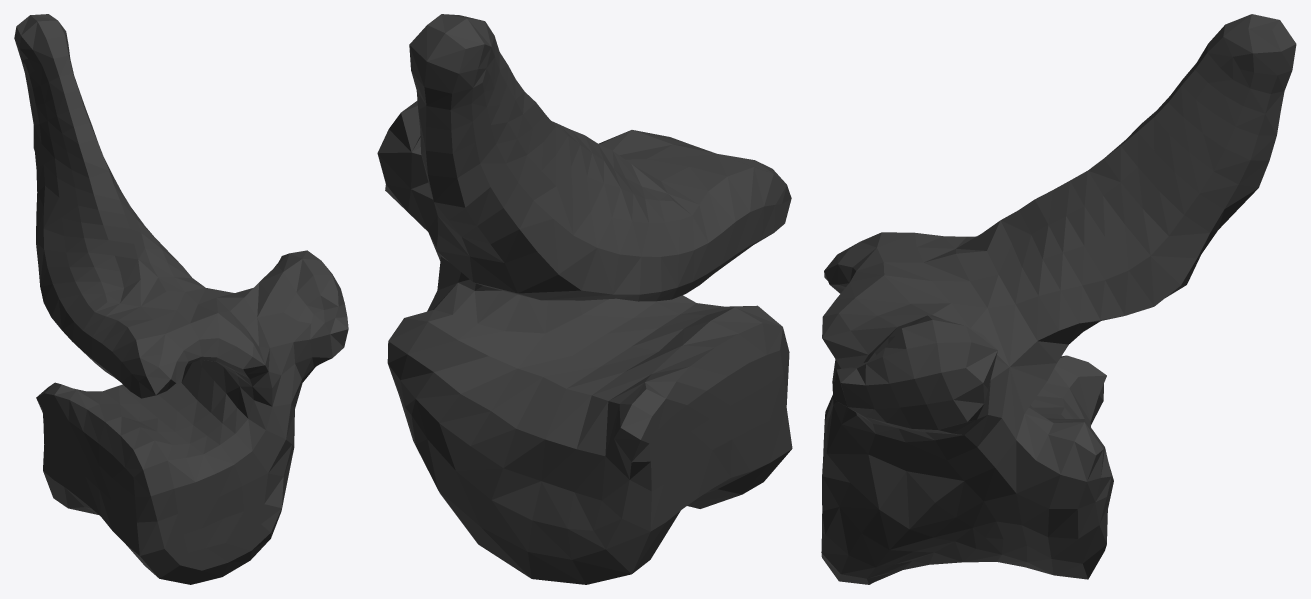
The picture shows the model from 3 angles, left to right: view 1: azimuth 30°, elevation 25°; view 2: azimuth 150°, elevation 25°; view 3: azimuth 270°, elevation 25°; orthographic projection. The views are drawn at different scales.
Visible parts, largest first — view 1: T9; view 2: T9; view 3: T9.
Boxes of the visible parts, bbox=[...] form: T9: bbox=[14, 14, 348, 584]; T9: bbox=[377, 14, 792, 584]; T9: bbox=[821, 14, 1296, 584].
Size of the model in its own units: 0.00661 by 0.012 by 0.00933.
Materials: 1 (1 with a texture image).
